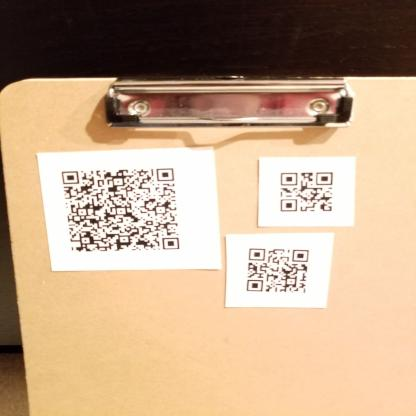qr: (58, 162, 183, 255), (243, 244, 313, 297), (278, 169, 338, 216)
